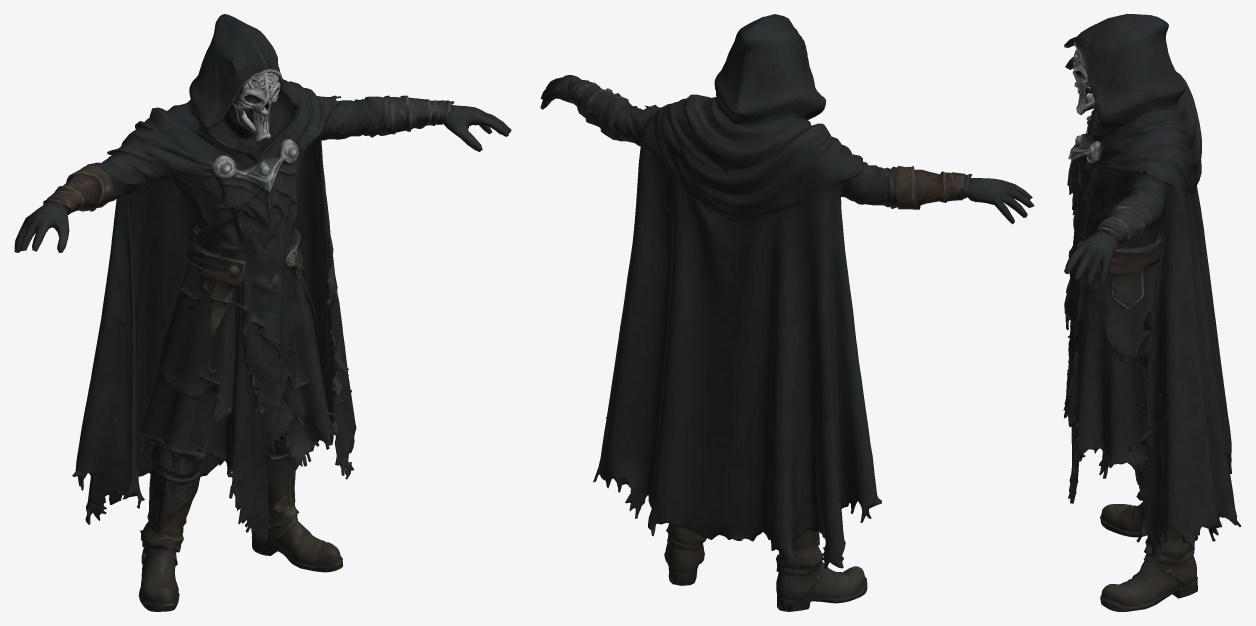
The model's file is dark_wizard.glb.
3 views of the same model, side by side, from view 1: azimuth 30°, elevation 25°; view 2: azimuth 150°, elevation 25°; view 3: azimuth 270°, elevation 25° (orthographic).
Visible parts, largest first — view 1: tripo_node_20e96b0e-1938-447e-848d-ed5ed8d654be; view 2: tripo_node_20e96b0e-1938-447e-848d-ed5ed8d654be; view 3: tripo_node_20e96b0e-1938-447e-848d-ed5ed8d654be.
Part boxes in pixels (<box>): tripo_node_20e96b0e-1938-447e-848d-ed5ed8d654be: <box>14,14,511,611</box>; tripo_node_20e96b0e-1938-447e-848d-ed5ed8d654be: <box>540,14,1034,611</box>; tripo_node_20e96b0e-1938-447e-848d-ed5ed8d654be: <box>1063,14,1241,611</box>.
Size of the model in its own units: 0.8951 by 0.9785 by 0.2861.
1 material, 1 textured.
